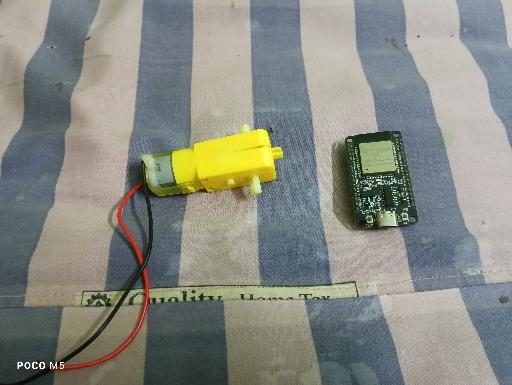Esp32: (343, 129, 419, 230)
Motor: (141, 123, 283, 198)
